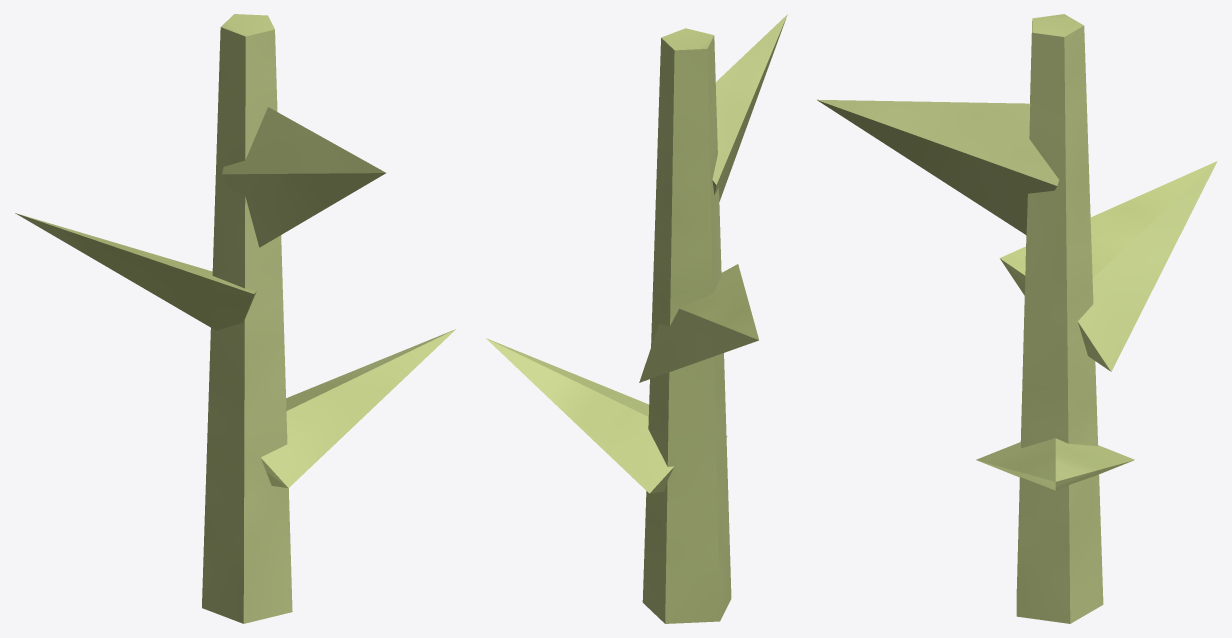
File: sm_crop_tomato_1.glb
3 views of the same model, side by side, from view 1: azimuth 30°, elevation 25°; view 2: azimuth 150°, elevation 25°; view 3: azimuth 270°, elevation 25° (orthographic). The views are drawn at different scales.
Visible parts, largest first — view 1: sm_crop_tomato_1; view 2: sm_crop_tomato_1; view 3: sm_crop_tomato_1.
Part boxes in pixels (bbox=[...]): sm_crop_tomato_1: bbox=[15, 14, 455, 623]; sm_crop_tomato_1: bbox=[486, 14, 787, 623]; sm_crop_tomato_1: bbox=[816, 14, 1217, 623].
Size of the model in its own units: 0.0783 by 0.12 by 0.0754.
1 material, 1 textured.
